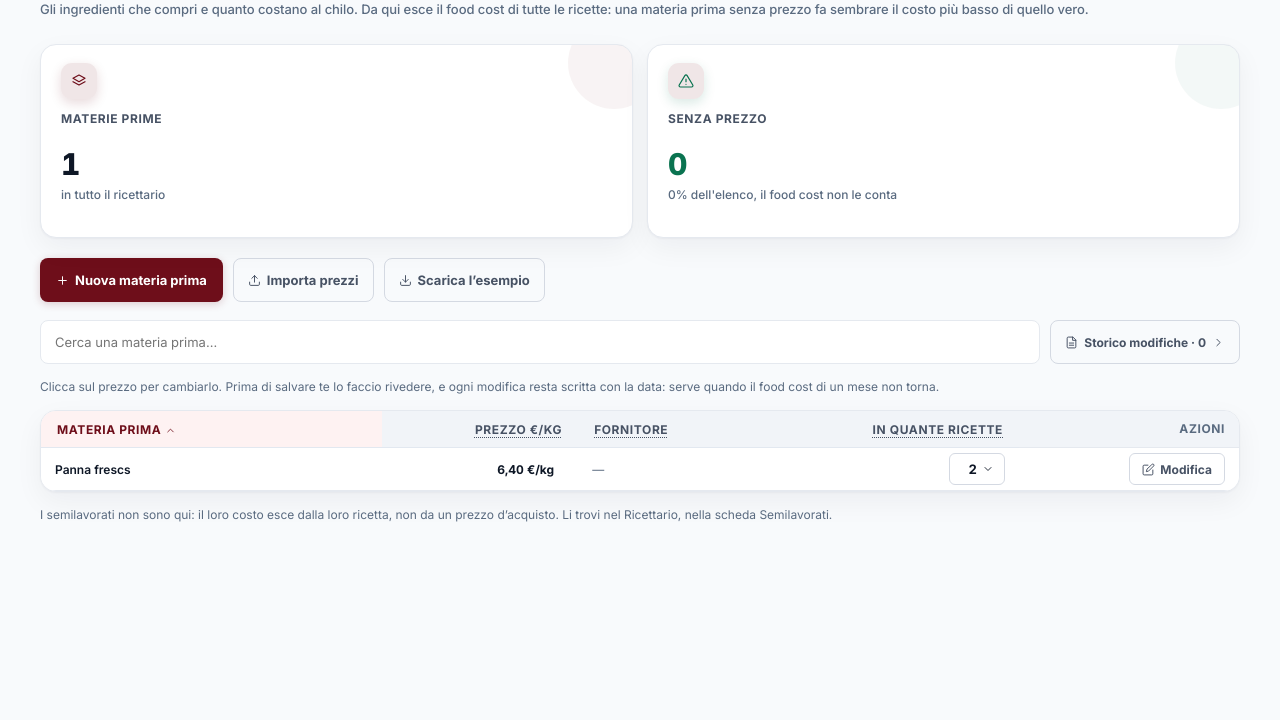
it: Il doppio controllo prima di rinominare › spuntandola si accende
Click the button "Modifica" at {"x": 1177, "y": 469}, box [1129,453,1225,485]
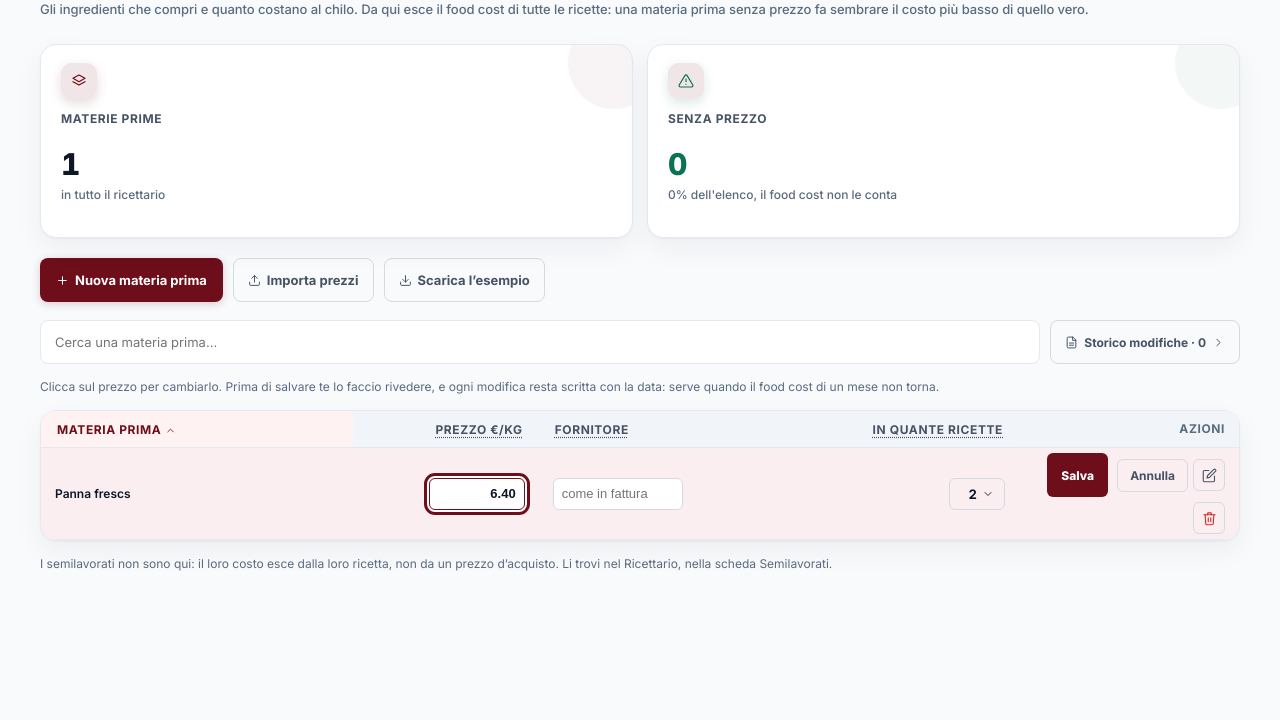
Expected: the button named "Cambia il nome di panna frescs" is shown
Click the button named "Cambia il nome di panna frescs" at {"x": 1209, "y": 475}, box [1193,459,1225,491]
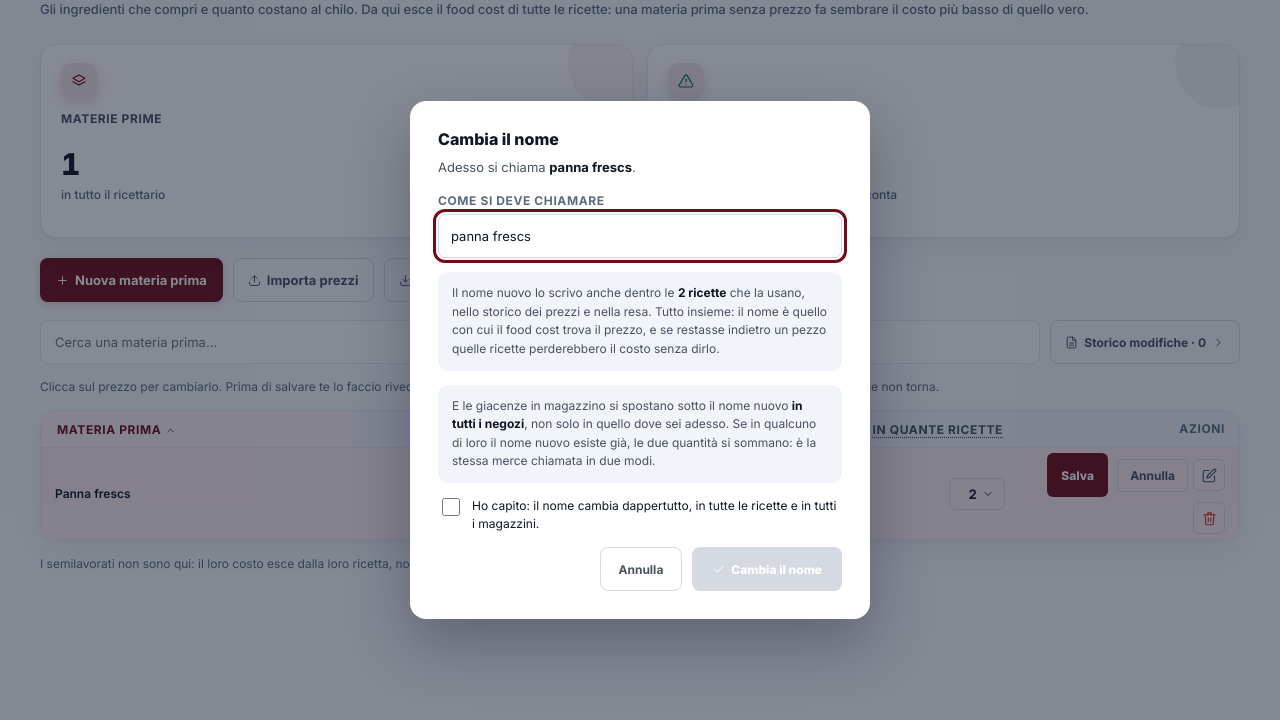
Expected: the field labelled "Come si deve chiamare" is shown, [438,214,842,258]
Click the checkbox at {"x": 451, "y": 507}, box [442,498,460,516]
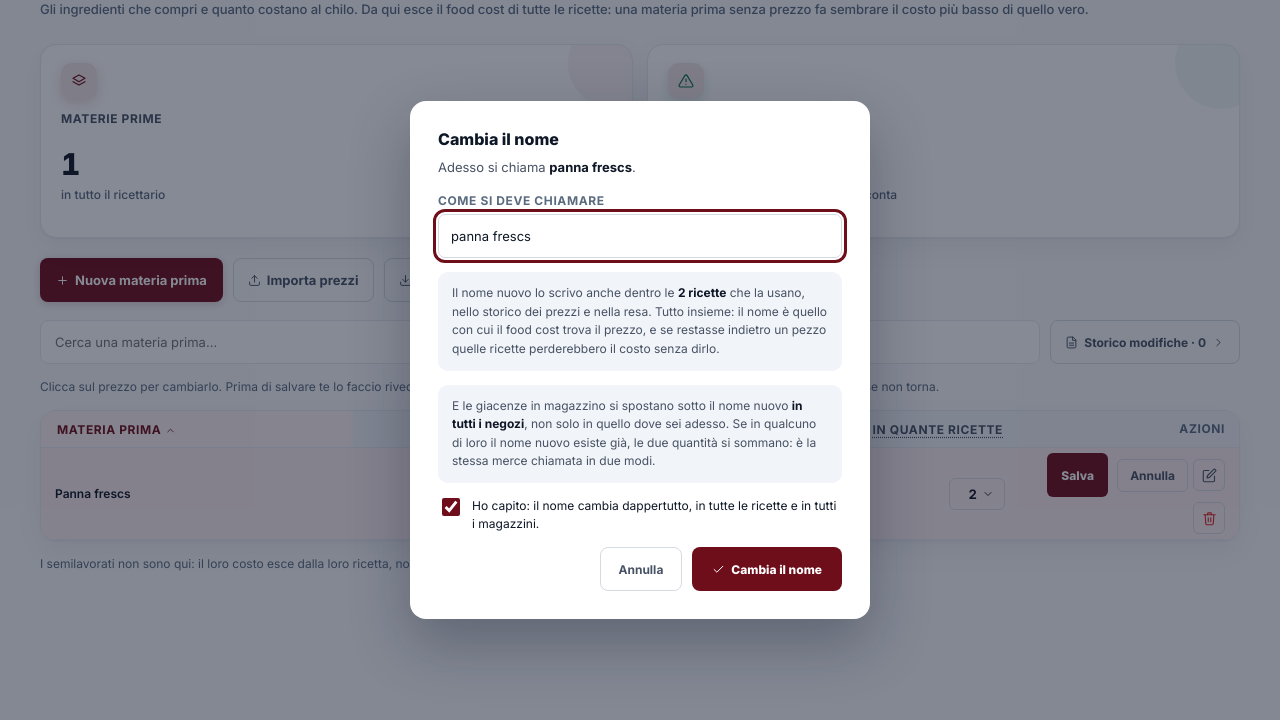
Expected: the button "Cambia il nome" is enabled, [692,547,842,591]
